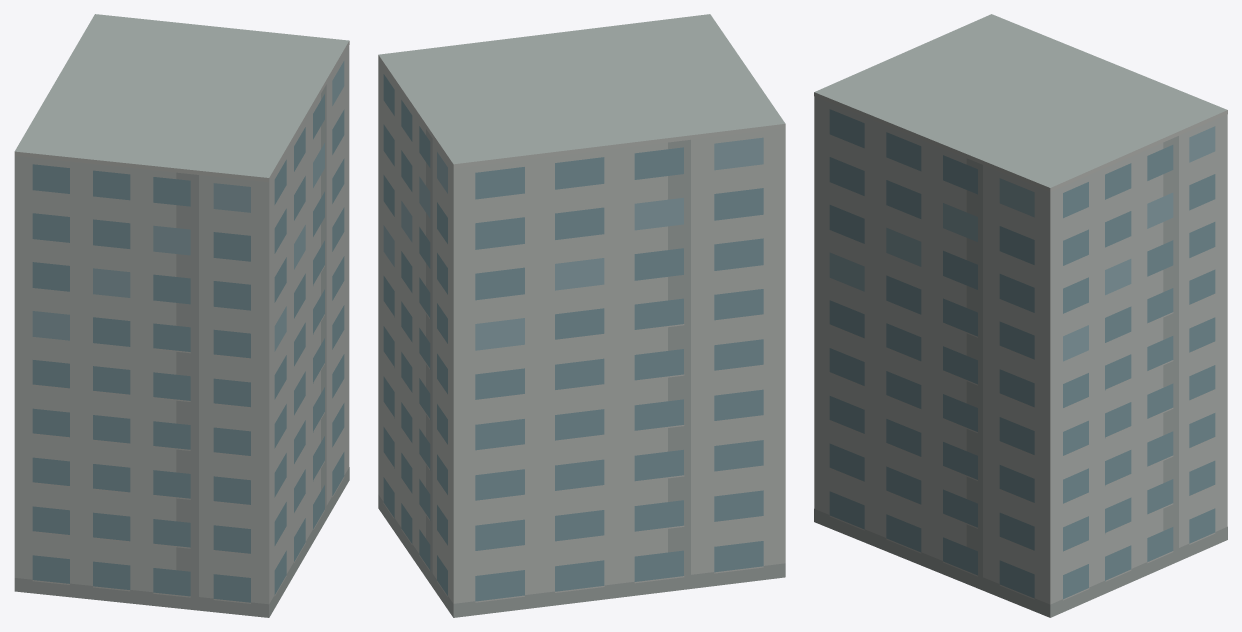
Rendered from residential-dead5895-1249-4a0f-a8b0-e94b70d8f855.glb.
3 views of the same model, side by side, from view 1: azimuth 30°, elevation 25°; view 2: azimuth 150°, elevation 25°; view 3: azimuth 270°, elevation 25° (orthographic). The views are drawn at different scales.
Parts seen in each view (by area): view 1: residential-dead5895-1249-4a0f-a8b0-e94b70d8f855.tmp; view 2: residential-dead5895-1249-4a0f-a8b0-e94b70d8f855.tmp; view 3: residential-dead5895-1249-4a0f-a8b0-e94b70d8f855.tmp.
Boxes of the visible parts, <box> form: residential-dead5895-1249-4a0f-a8b0-e94b70d8f855.tmp: <box>14,14,349,617</box>; residential-dead5895-1249-4a0f-a8b0-e94b70d8f855.tmp: <box>378,14,785,617</box>; residential-dead5895-1249-4a0f-a8b0-e94b70d8f855.tmp: <box>814,14,1227,617</box>.
Size of the model in its own units: 21.71 by 25 by 21.81.
